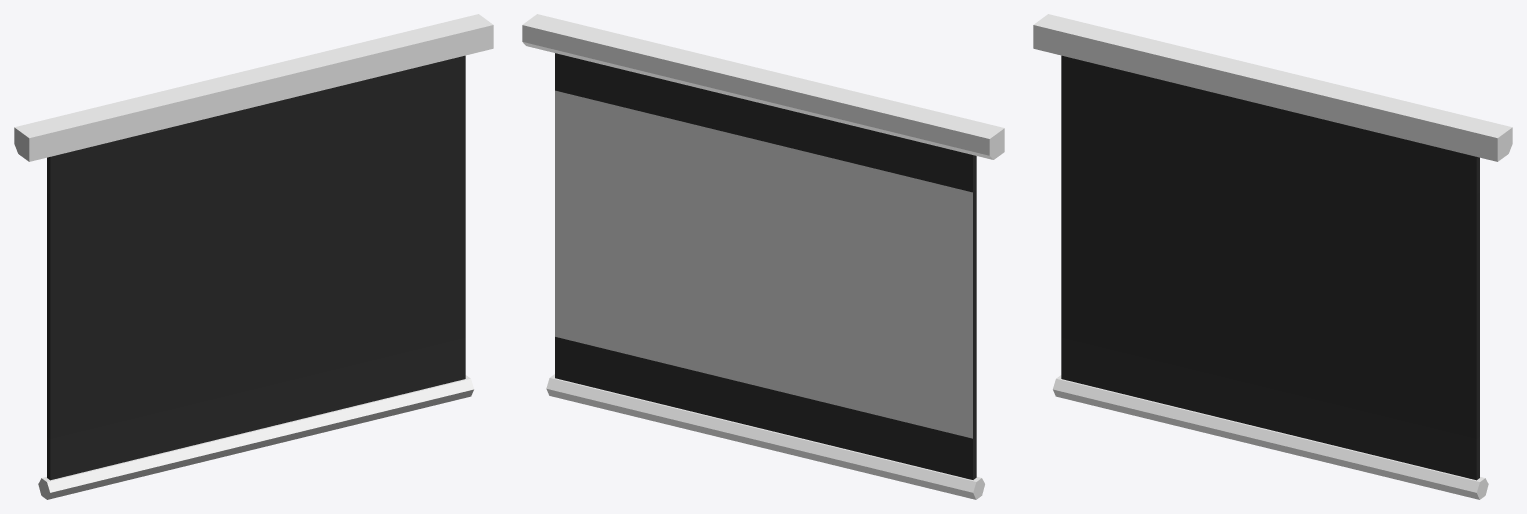
3 renders of one model, left to right at view 1: azimuth 30°, elevation 25°; view 2: azimuth 150°, elevation 25°; view 3: azimuth 330°, elevation 25°, orthographic.
Visible parts, largest first — view 1: tv; view 2: tv_screen, tv; view 3: tv.
Part boxes in pixels (x1,y1,x2,y2): tv: (14,14,493,499); tv_screen: (555,90,972,438); tv: (522,14,1004,499); tv: (1033,14,1512,499).
Bounding box in the file's own units: 3.85 × 2.91 × 0.2253.
1 material, 1 textured.
